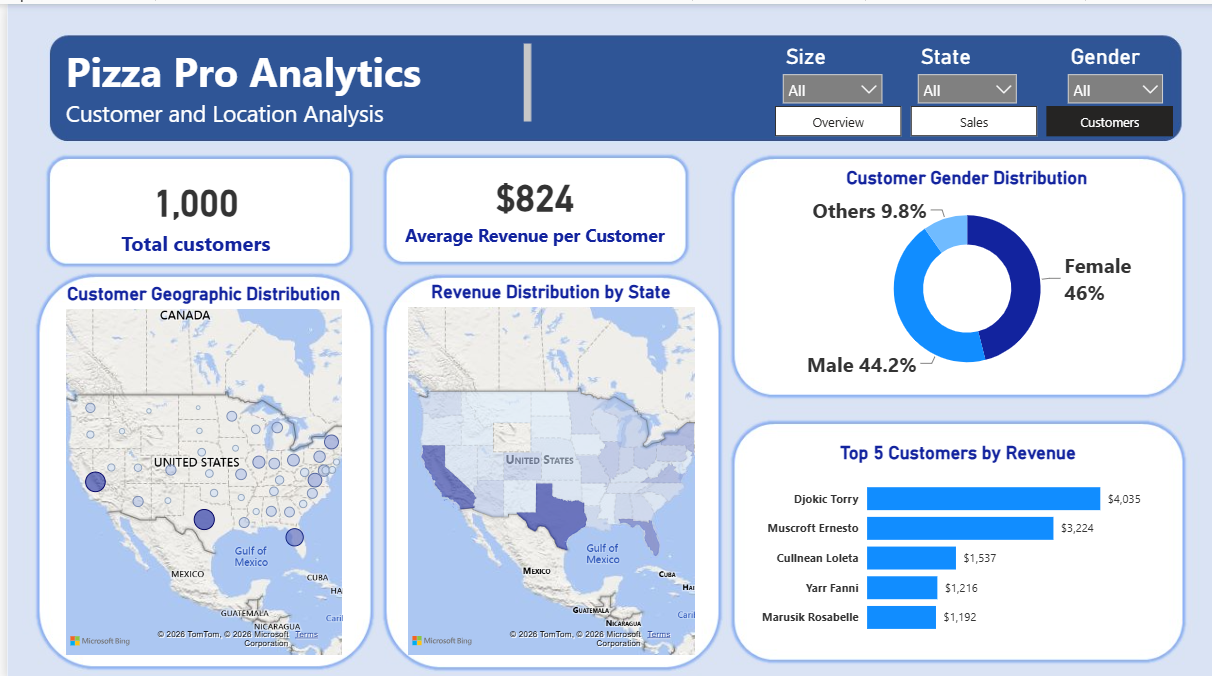

Layout of this report page (visuals, bound fields, positions):
{"tool":"powerbi","page":{"name":"Customers","canvas":[1280,720],"ordinal":2},"visuals":[{"type":"card","fields":{"Values":["Measures Table.Total customers"]},"box":[56.7,173.9,285.4,96.4],"z":0},{"type":"donutChart","title":"Customer Gender Distribution","fields":{"Category":["customers.gender"],"Y":["Measures Table.Total customers"]},"box":[812.6,173.9,410.1,234.3],"z":1000},{"type":"clusteredBarChart","title":"Top 5 Customers by Revenue","fields":{"Category":["customers.full_name"],"Y":["Measures Table.Total Revenue"]},"box":[793.7,464.5,429.5,216.3],"z":2000},{"type":"map","title":"Customer Geographic Distribution","fields":{"Category":["customers.state"],"Size":["Measures Table.Total customers"]},"box":[56.8,295.2,302.8,399.3],"z":3000},{"type":"filledMap","title":"Revenue Distribution by State","fields":{"Category":["customers.state"]},"box":[419.5,294.8,313.7,400.6],"z":4000},{"type":"slicer","fields":{"Values":["pizzas.size"]},"box":[813.1,36,125.1,72],"z":5000},{"type":"pageNavigator","box":[813.8,107.9,422,32.2],"z":6000},{"type":"slicer","fields":{"Values":["customers.state"]},"box":[956.2,35.9,124.7,107.7],"z":7000},{"type":"slicer","fields":{"Values":["customers.gender"]},"box":[1115,36.6,120.9,73.2],"z":8000},{"type":"textbox","box":[56.8,36,503.4,104.1],"z":9000},{"type":"card","fields":{"Values":["Measures Table.Average Revenue per Customer"]},"box":[409.4,157.3,301.4,113.7],"z":10000},{"type":"actionButton","box":[959.1,108,128.9,32.2],"z":11000},{"type":"actionButton","box":[814,109.2,128.3,30.6],"z":12000}]}

Visuals, with their boxes in screenshot pixels (x1, y1, x2, y2), scaled from the page's 1280x720 canvas onto the 1212x676 screenshot:
card - Measures Table.Total customers: [54,163,324,254]
"Customer Gender Distribution" donutChart: [769,163,1158,383]
"Top 5 Customers by Revenue" clusteredBarChart: [752,436,1158,639]
"Customer Geographic Distribution" map: [54,277,340,652]
"Revenue Distribution by State" filledMap: [397,277,694,653]
slicer - pizzas.size: [770,34,888,101]
pageNavigator: [771,101,1170,132]
slicer - customers.state: [905,34,1023,135]
slicer - customers.gender: [1056,34,1170,103]
textbox: [54,34,530,132]
card - Measures Table.Average Revenue per Customer: [388,148,673,254]
actionButton: [908,101,1030,132]
actionButton: [771,103,892,131]
